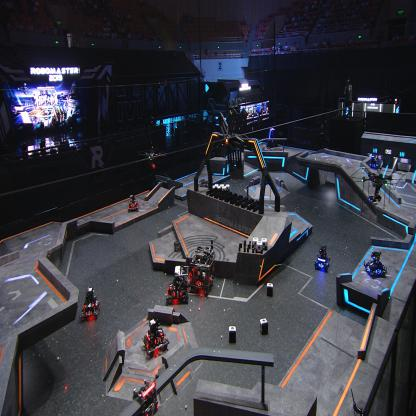car: (186, 246, 216, 295), (141, 318, 169, 358), (166, 264, 189, 302), (363, 250, 388, 279), (80, 288, 102, 320), (314, 244, 331, 272), (197, 178, 209, 200), (126, 194, 138, 212), (369, 153, 379, 169), (259, 175, 270, 189)
